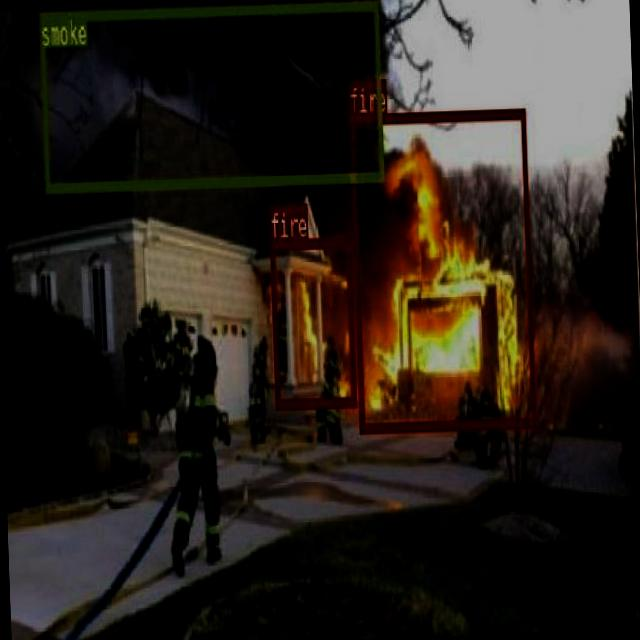fire: (348, 106, 535, 432), (268, 236, 354, 408)
smoke: (39, 0, 382, 191)
